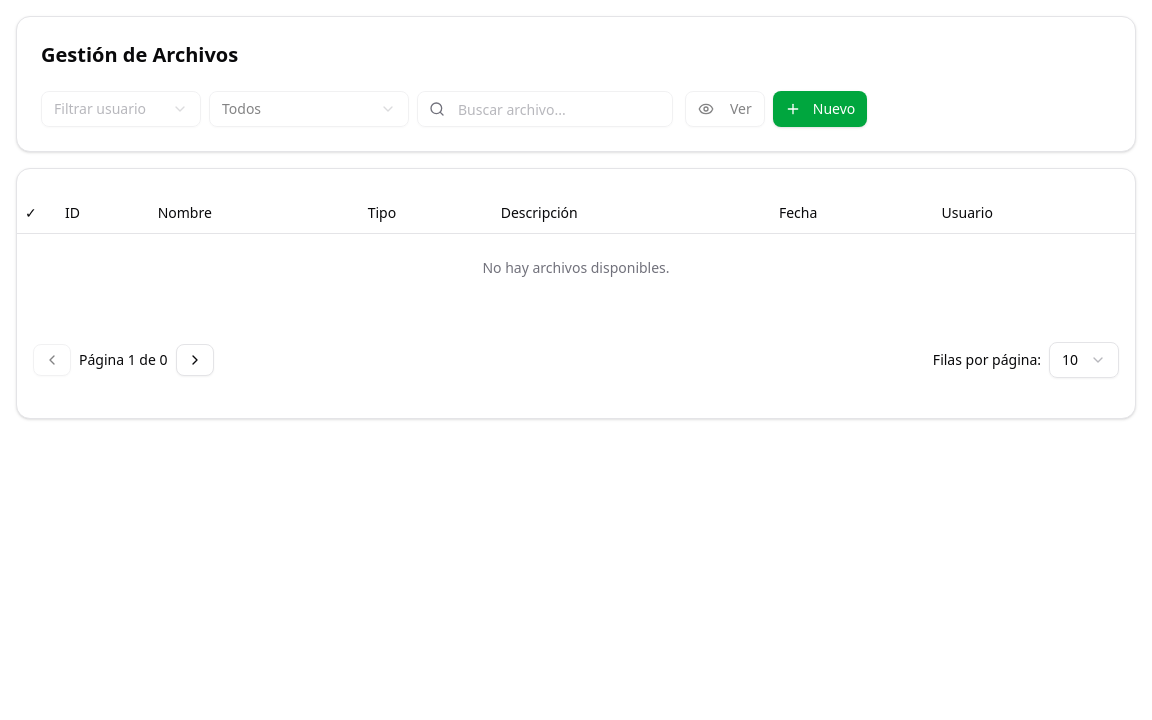
Test: Componente FileList › abre el modal de subida de archivos al hacer click en 'Nuevo'
The image size is (1152, 720).
Step 1. Click the button "Nuevo" → x=820, y=109, box [773,91,867,127]
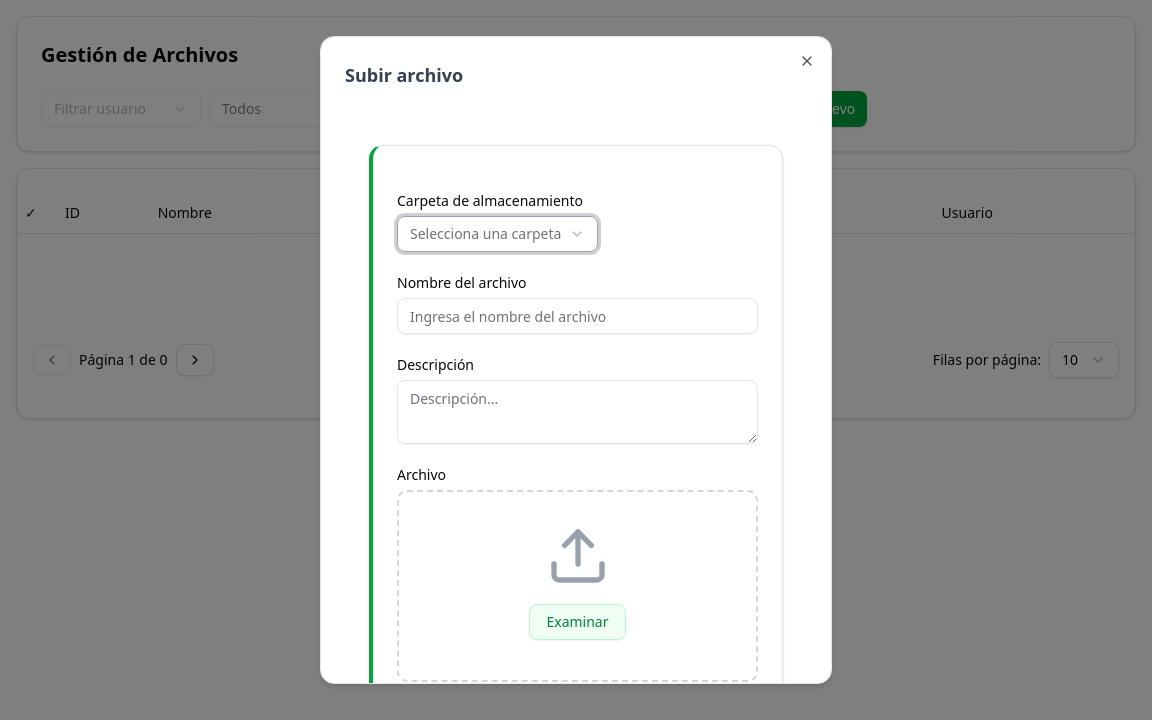
Expected: the heading "Subir archivo" is shown, [345,63,463,87]
